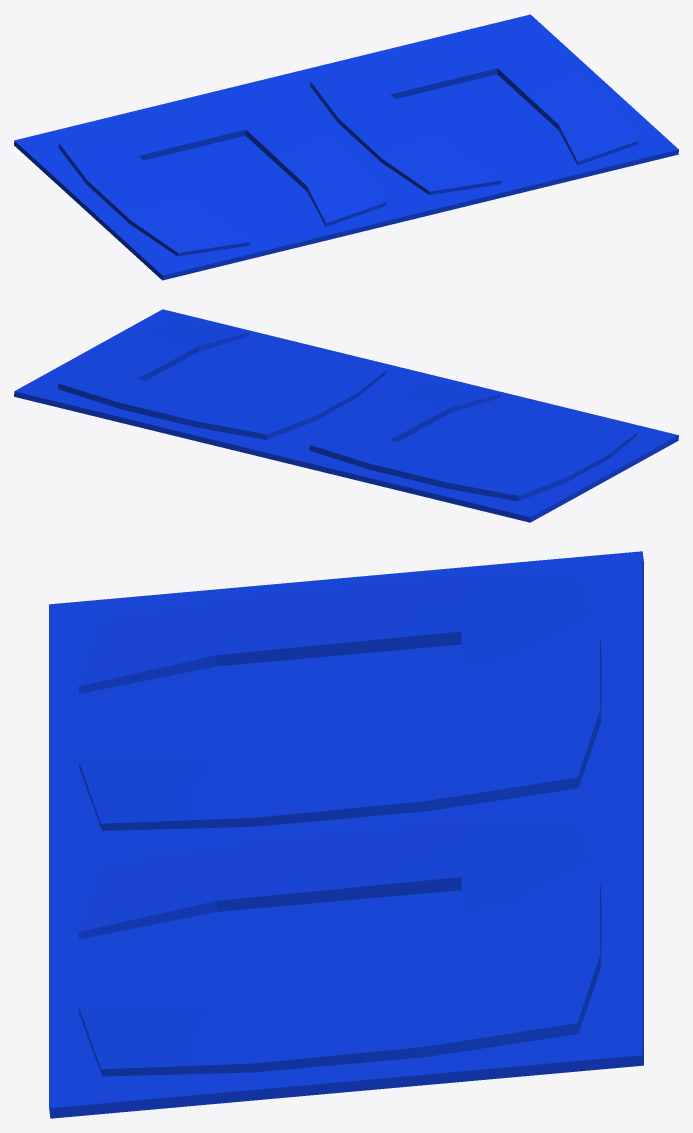
File: cacambaTampa.FBX
3 views of the same model, one above another, from view 1: azimuth 30°, elevation 25°; view 2: azimuth 150°, elevation 25°; view 3: azimuth 270°, elevation 25° (orthographic). The views are drawn at different scales.
Visible parts, largest first — view 1: Box005; view 2: Box005; view 3: Box005.
Boxes of the visible parts, left/top/right/bottom form: Box005: left=14, top=14, right=678, bottom=280; Box005: left=14, top=309, right=678, bottom=522; Box005: left=49, top=551, right=643, bottom=1118.
Size of the model in its own units: 118 by 7.76 by 58.62.
